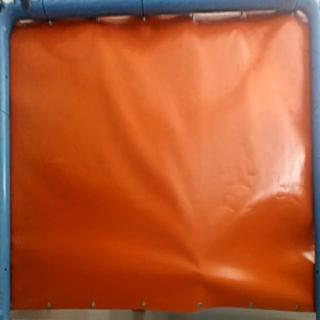Hit-hRxx: (192, 268, 206, 280)
